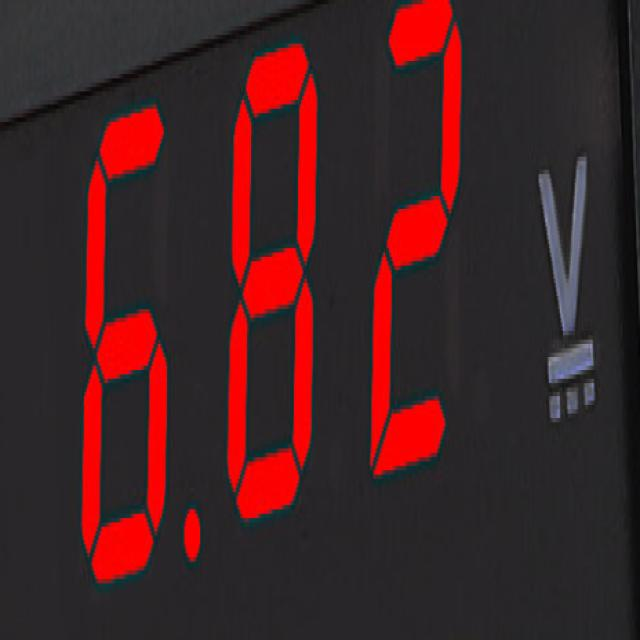.: (180, 498, 204, 570)
2: (364, 9, 494, 519)
6: (54, 64, 216, 606)
8: (224, 57, 344, 556)
